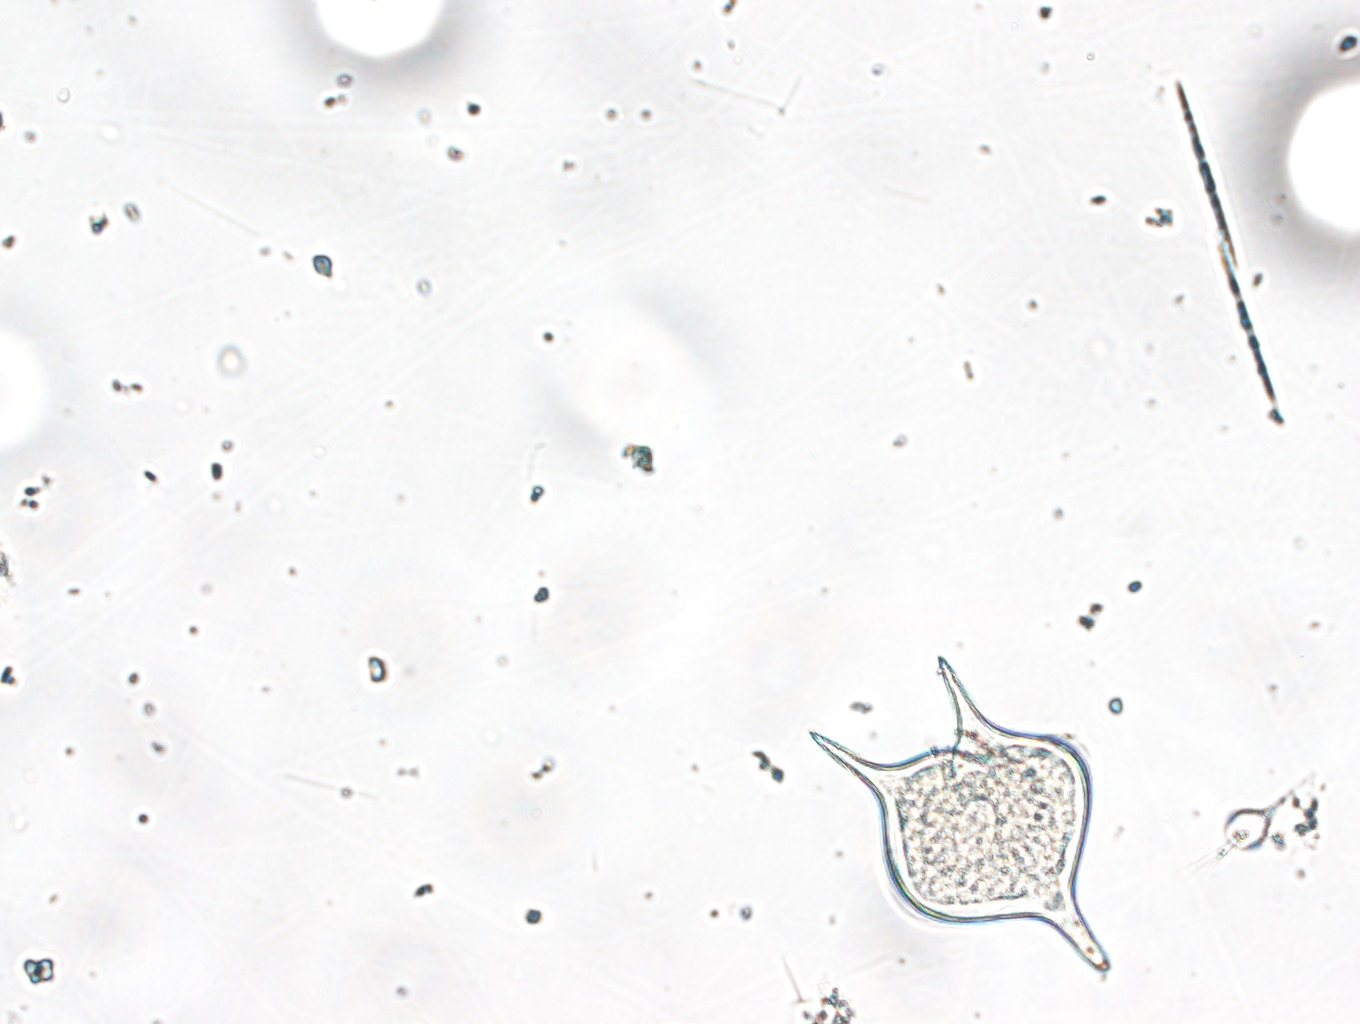ceratium furca: (805, 634, 1120, 977)
